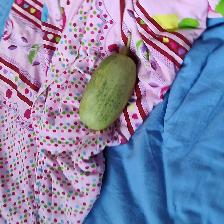gua: (87, 53, 125, 128)
